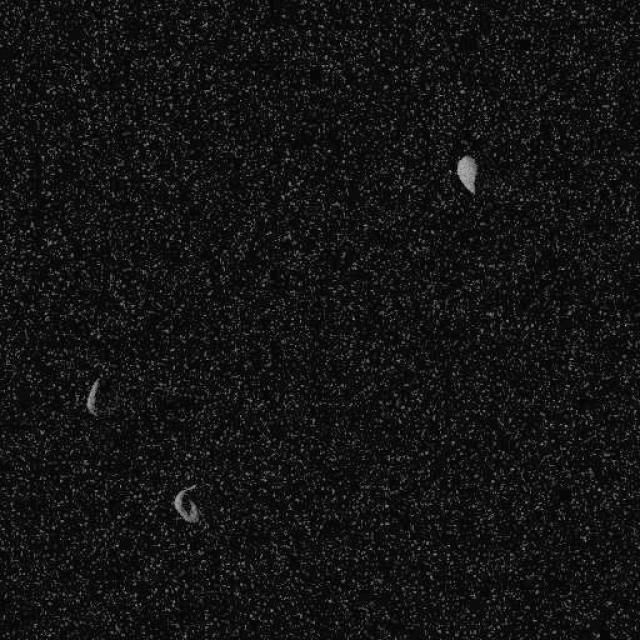D2: (172, 484, 200, 524), (455, 152, 477, 194), (84, 377, 101, 418)
